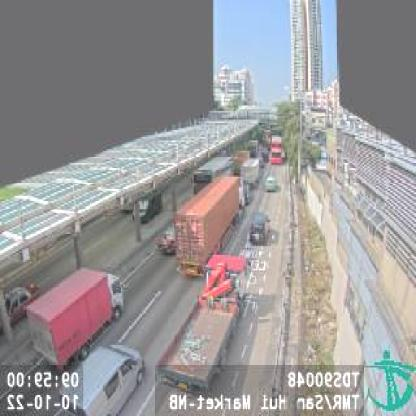Bus: (192, 155, 235, 200), (268, 136, 284, 164)
Car: (57, 341, 143, 415), (0, 280, 39, 329), (132, 188, 161, 222), (248, 210, 270, 244), (264, 175, 276, 193)
Truck: (160, 254, 244, 395), (26, 264, 124, 376), (174, 173, 241, 274), (242, 156, 260, 187)
